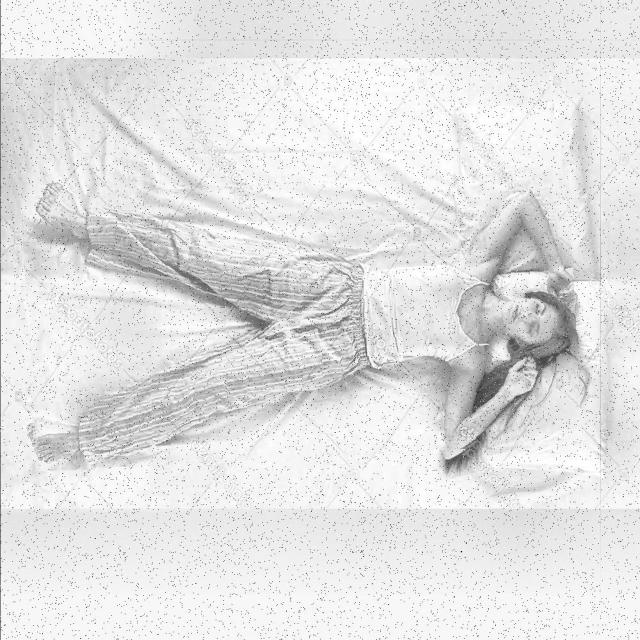Supine: (34, 192, 576, 461)
